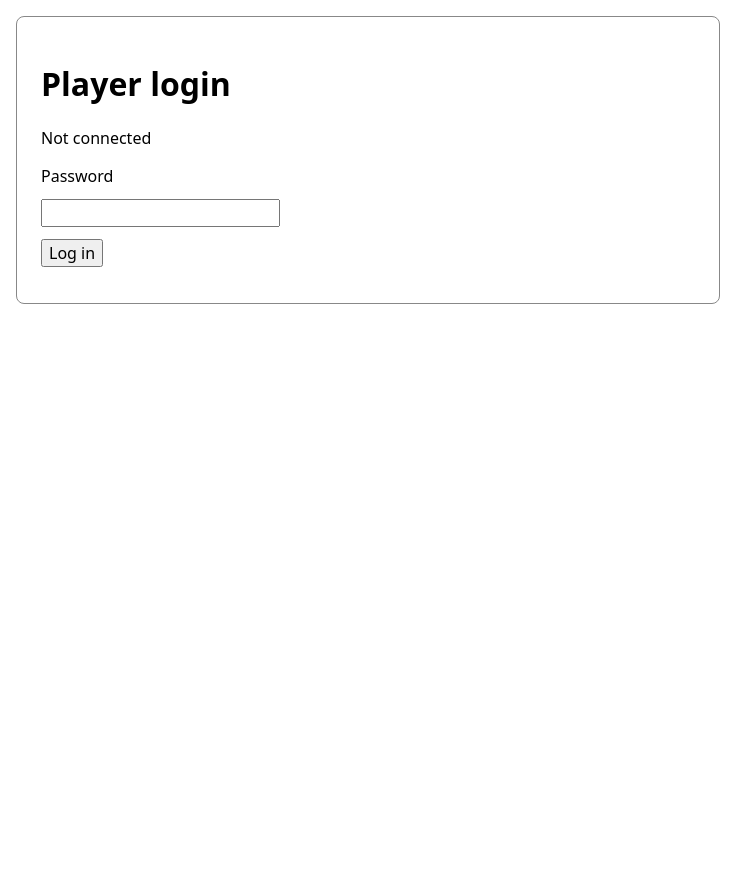
Test: player login and session bootstrap › submits login, hydrates a versioned snapshot, and connects to the player namespace
This screenshot has width=737, height=874.
Later steps or results of the test are not shown.
Type "never-persist-this" into the password field named "password" at point(160, 213), box [41,199,280,227]
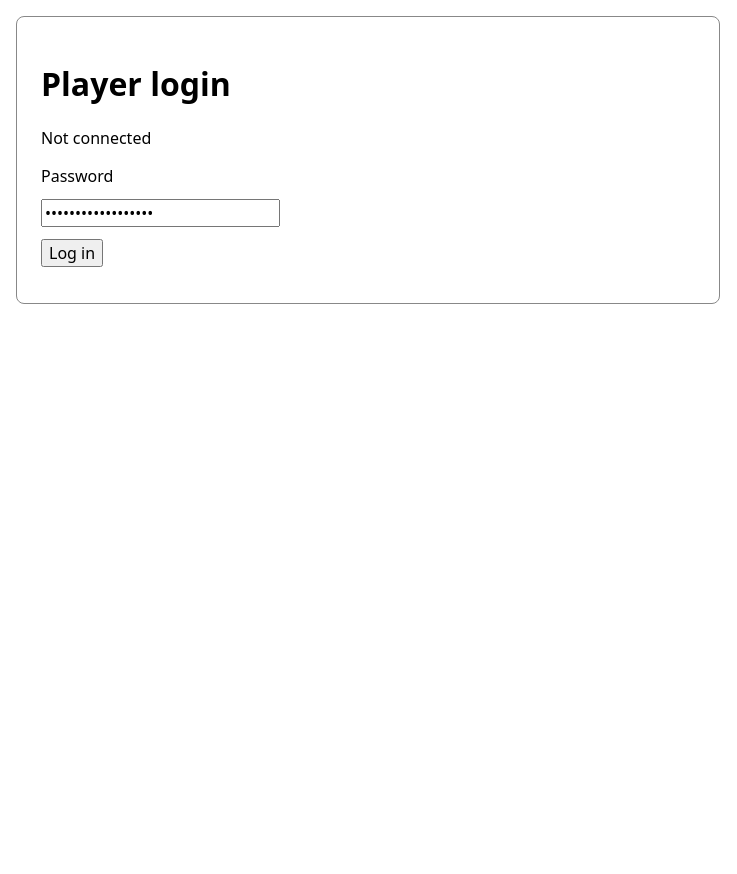
Submit the form, box [41,165,280,267]
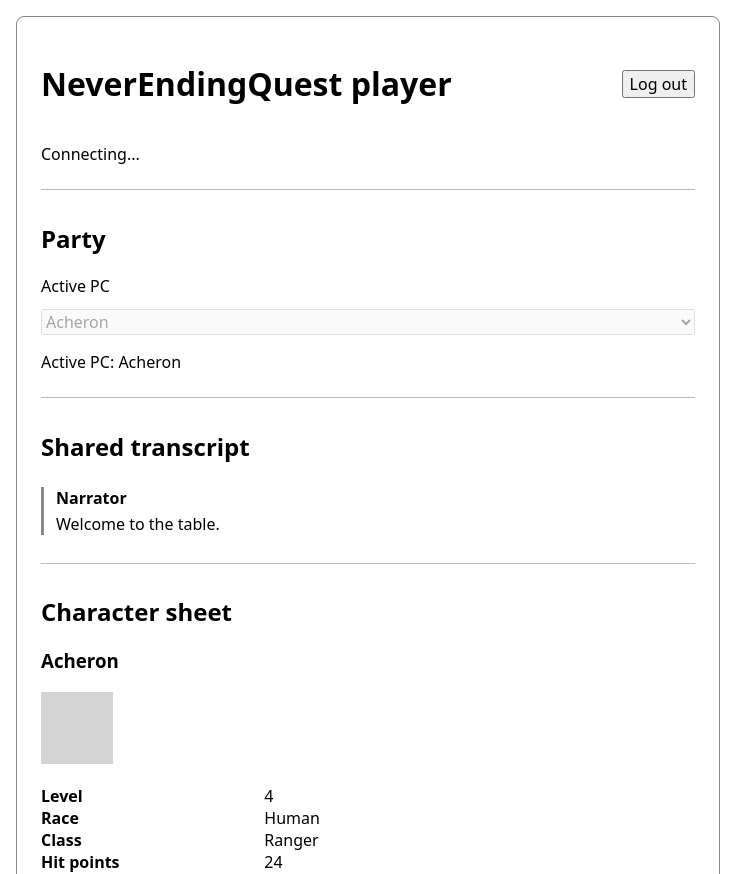
Now the text "Acheron" is shown, box [118,351,181,373]
Now the text "Active PC: Acheron" is shown, box [41,351,181,373]
Now the text "Welcome to the table." is shown, box [56,512,220,534]
